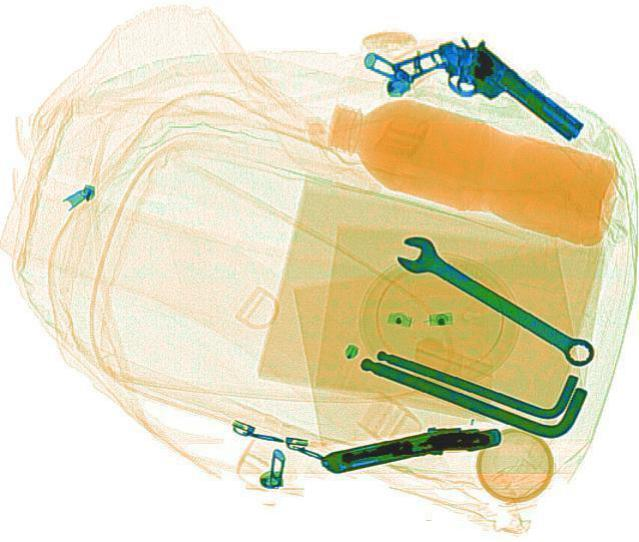Gun: (386, 16, 589, 175), (318, 414, 505, 472)
Wrench: (385, 229, 604, 369)
